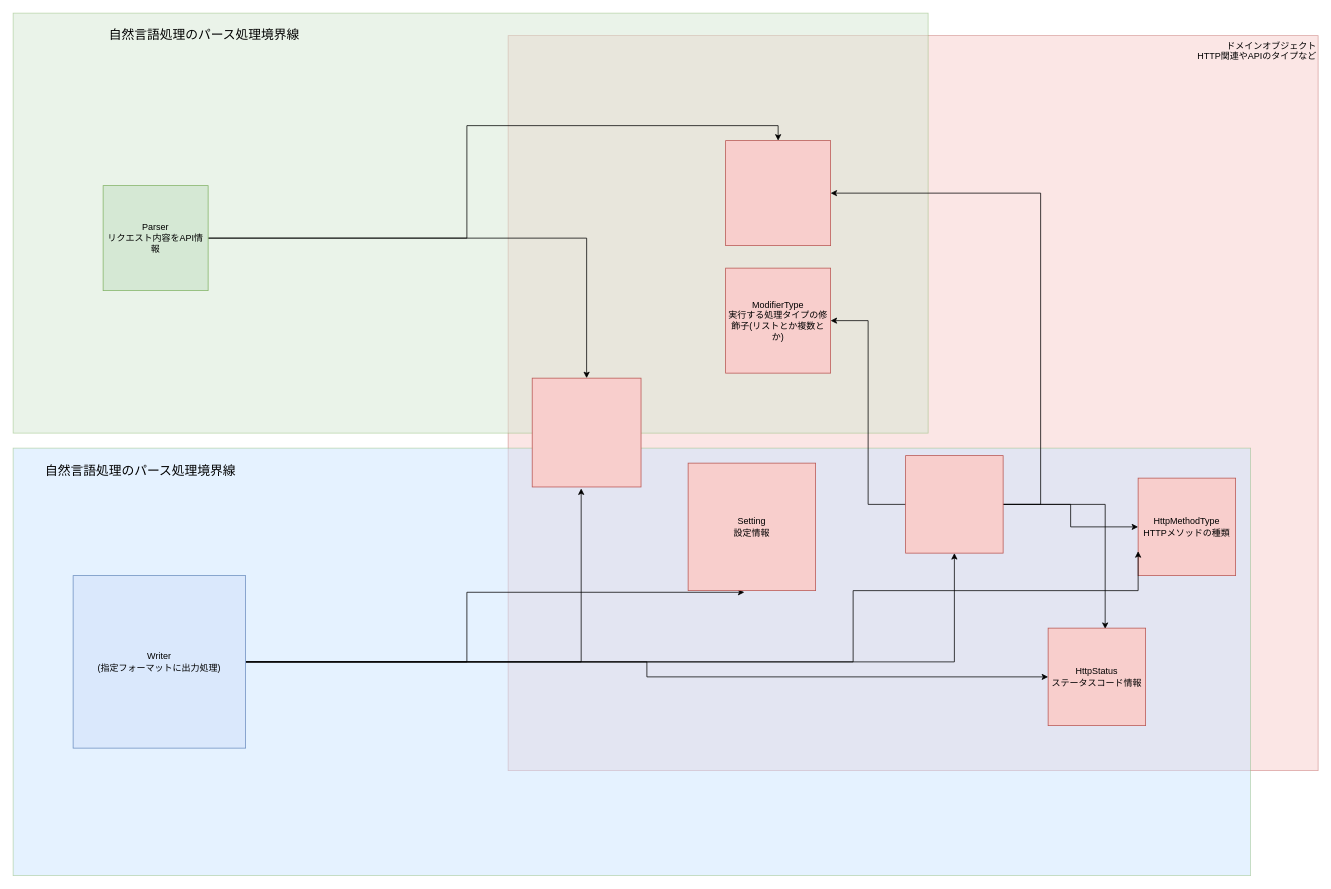
Image size: 1331x889. Some labels were removed from this diagram. The shapes that lost their labels are listed below. From the top down, each one's centre as x and y in pixels, then its label:
point 778,193: ActionType 実行する処理タイプ
point 586,432: Entity エンティティ (お気に入りとか店舗とかユーザー情報とか)
point 954,504: ApiKind API種別 (CRUDや複数登録とか)
